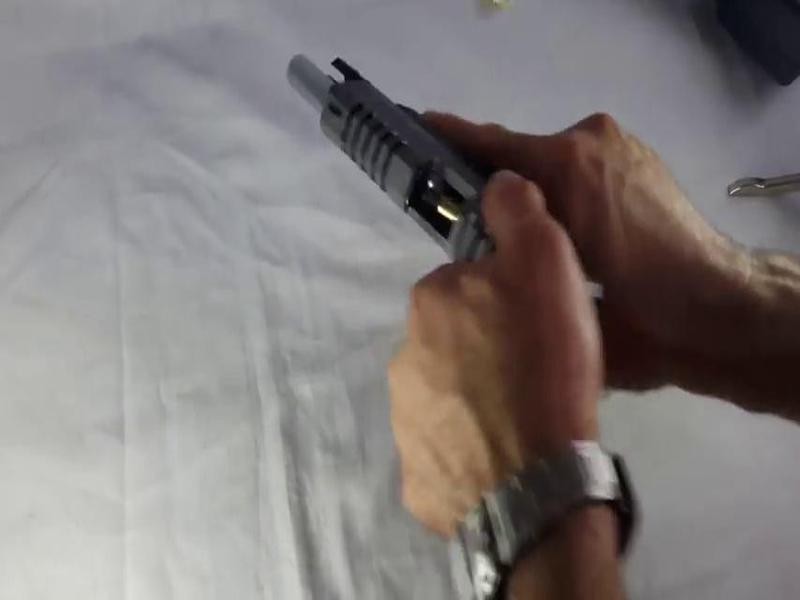Pistola: (275, 41, 600, 328)
